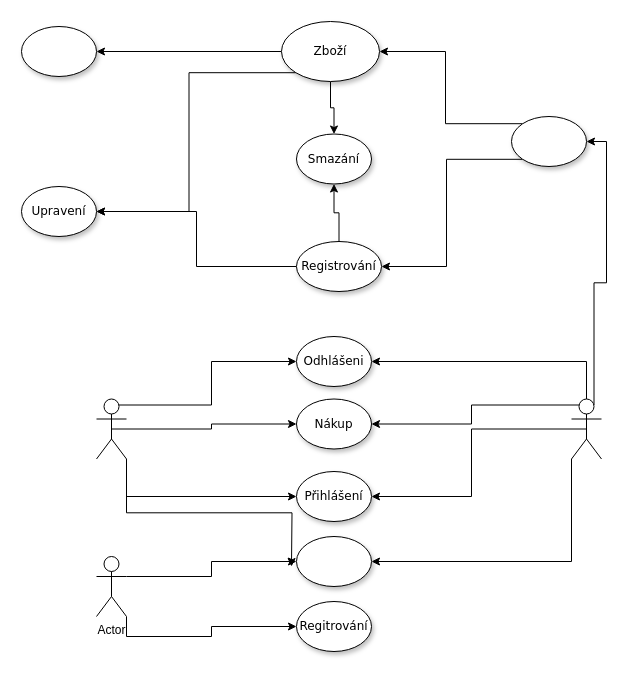
Some shapes in this 639 by 676 pixel diagram are drawn without their labels. Each missing label, with the centre of its shape:
Administrátor: [586,428]
Editování e-shopu: [549,143]
Prohlížení: [335,563]
Přidání: [59,53]
Registrovaný uživatel: [111,428]
